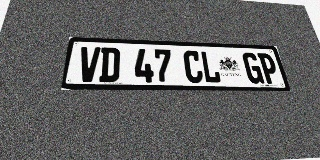4: (135, 48, 154, 82)
7: (153, 49, 173, 83)
C: (183, 50, 204, 83)
D: (99, 47, 120, 82)
G: (241, 52, 265, 84)
L: (200, 51, 221, 83)
P: (257, 53, 281, 84)
V: (77, 46, 101, 82)
